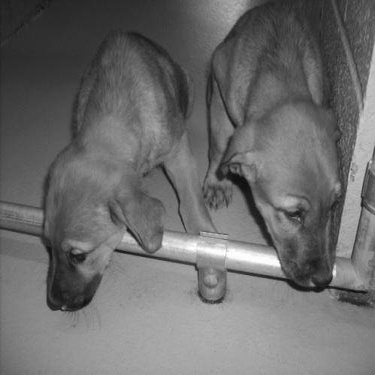dog: (32, 21, 219, 323), (194, 1, 343, 294)
